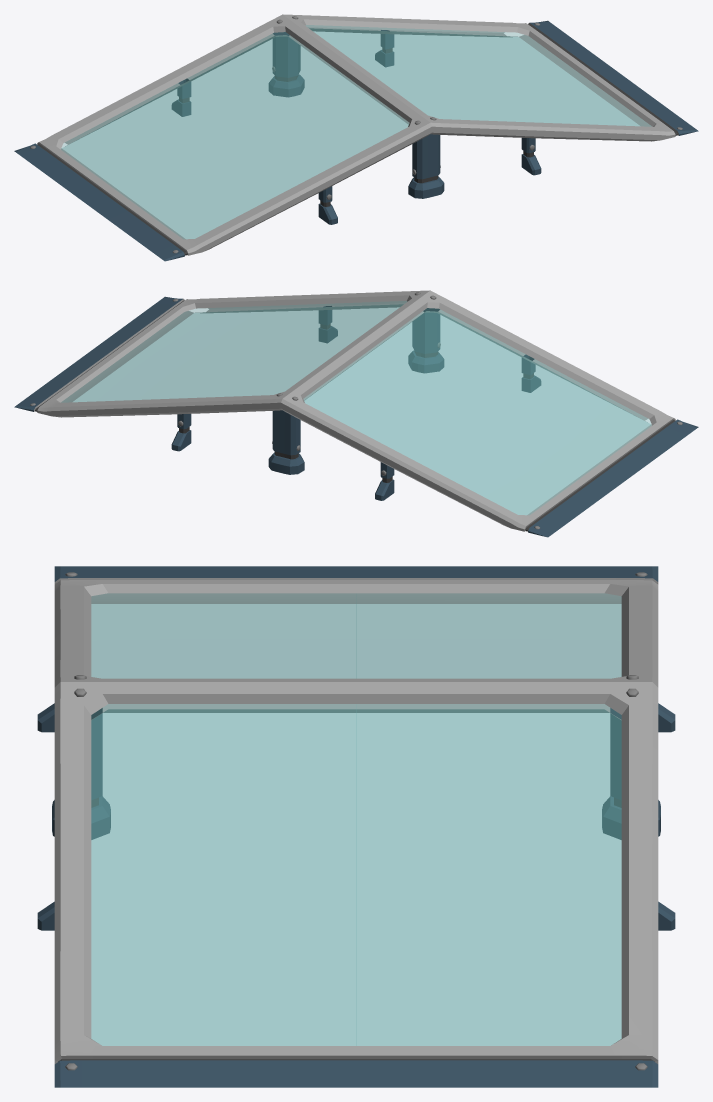
File: jumper.fbx
3 views of the same model, one above another, from view 1: azimuth 30°, elevation 25°; view 2: azimuth 150°, elevation 25°; view 3: azimuth 270°, elevation 25° (orthographic). The views are drawn at different scales.
Parts seen in each view (by area): view 1: jumper; view 2: jumper; view 3: jumper.
Part boxes in pixels (<box>): jumper: <box>14,14,698,261</box>; jumper: <box>14,290,698,537</box>; jumper: <box>37,566,675,1087</box>.
Size of what is drawn, in the model's own units: 440 by 57.26 by 228.
